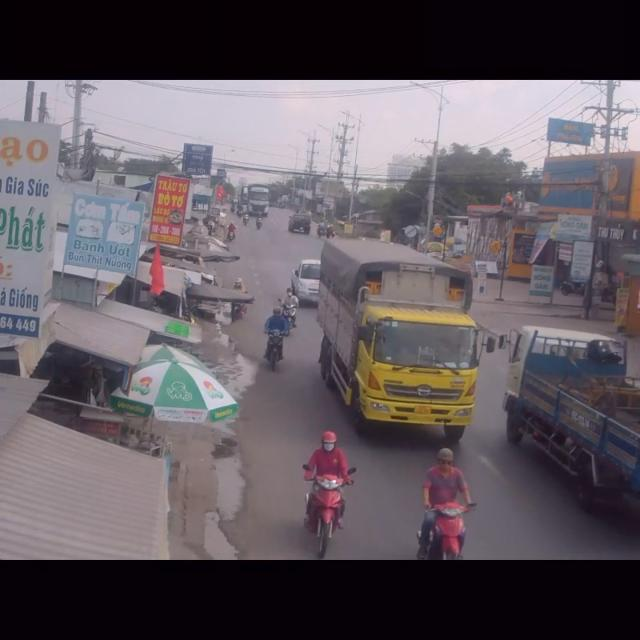car: (292, 258, 323, 309)
motorbike: (414, 445, 474, 561), (304, 432, 356, 562), (264, 307, 290, 373), (282, 286, 301, 329)
truck: (318, 235, 486, 436), (508, 319, 640, 533)
